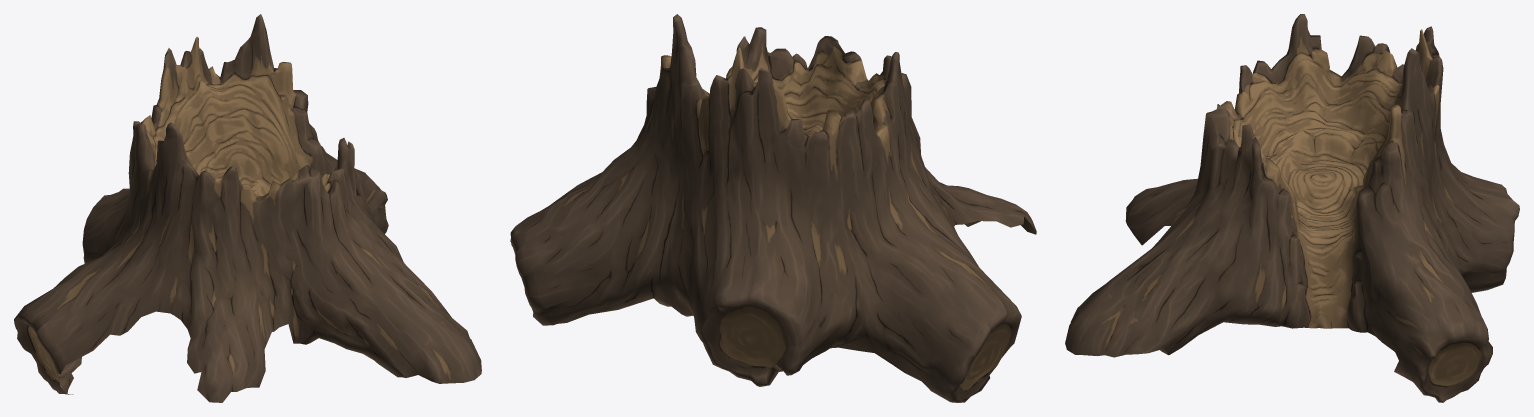
The model's file is Treestump split.fbx.
3 renders of one model, left to right at view 1: azimuth 30°, elevation 25°; view 2: azimuth 150°, elevation 25°; view 3: azimuth 270°, elevation 25°, orthographic. The views are drawn at different scales.
Visible parts, largest first — view 1: Treestump_split_b, Treestump_split_a, Treestump_split_center, Treestump_split_d, Treestump_split_c; view 2: Treestump_split_c, Treestump_split_b, Treestump_split_d, Treestump_split_center, Treestump_split_a; view 3: Treestump_split_a, Treestump_split_d, Treestump_split_center, Treestump_split_c, Treestump_split_b.
Part boxes in pixels (x1=…): Treestump_split_b: x1=14, y1=121, x2=279, y2=402; Treestump_split_a: x1=259, y1=138, x2=481, y2=383; Treestump_split_center: x1=153, y1=74, x2=331, y2=196; Treestump_split_d: x1=220, y1=14, x2=388, y2=233; Treestump_split_c: x1=82, y1=37, x2=221, y2=263; Treestump_split_c: x1=668, y1=47, x2=856, y2=386; Treestump_split_b: x1=834, y1=52, x2=1036, y2=402; Treestump_split_d: x1=510, y1=14, x2=705, y2=325; Treestump_split_center: x1=703, y1=56, x2=885, y2=136; Treestump_split_a: x1=726, y1=27, x2=868, y2=87; Treestump_split_a: x1=1065, y1=101, x2=1311, y2=357; Treestump_split_d: x1=1347, y1=48, x2=1492, y2=402; Treestump_split_center: x1=1229, y1=53, x2=1401, y2=328; Treestump_split_c: x1=1376, y1=26, x2=1519, y2=292; Treestump_split_b: x1=1125, y1=14, x2=1390, y2=245.
Bounding box in the file's own units: 103 × 75.25 × 96.35.
